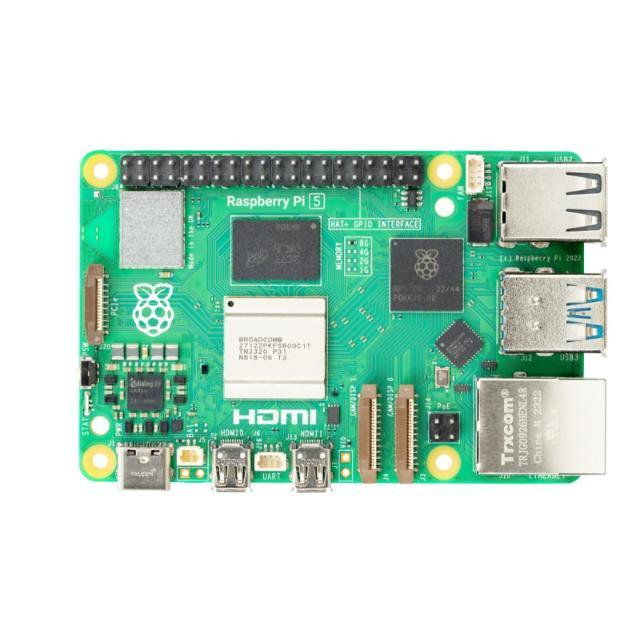Raspberry-Pi-5: (81, 152, 607, 492)
